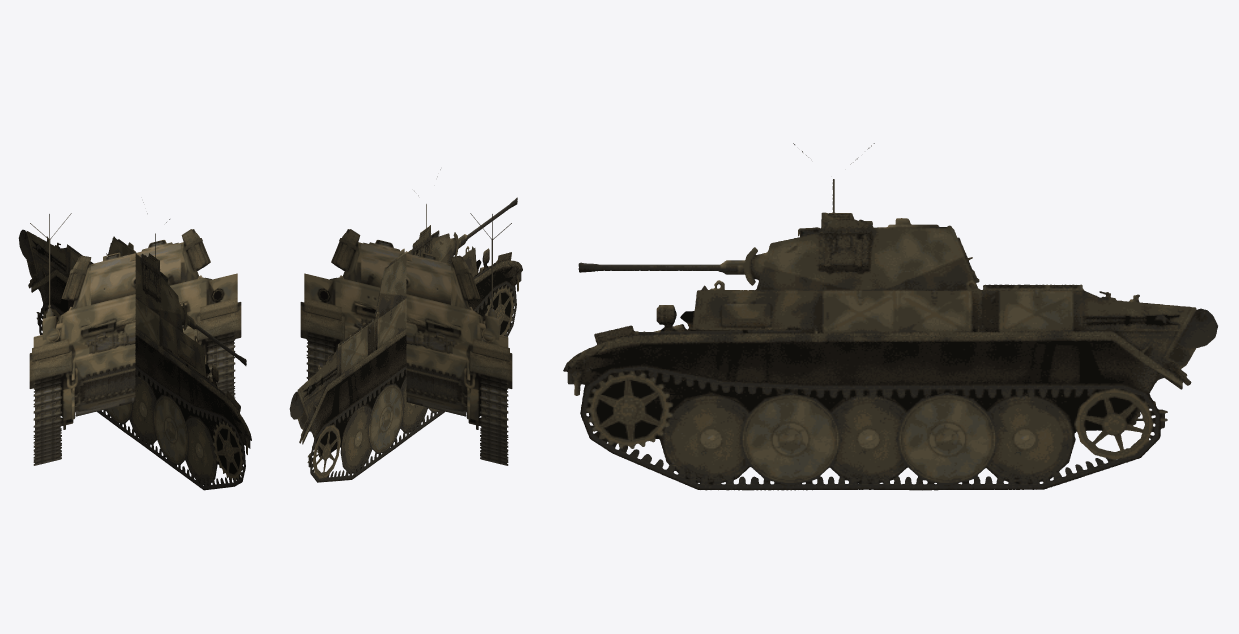
Rendered from panzer_ii_luchs_42manako_m_bb.glb.
3 renders of one model, left to right at view 1: azimuth 30°, elevation 25°; view 2: azimuth 150°, elevation 25°; view 3: azimuth 270°, elevation 25°, orthographic. The views are drawn at different scales.
Parts seen in each view (by area): view 1: panzer_ii_luchs_42manako_m_bb; view 2: panzer_ii_luchs_42manako_m_bb; view 3: panzer_ii_luchs_42manako_m_bb.
Boxes of the visible parts, x1=… form: panzer_ii_luchs_42manako_m_bb: x1=18, y1=202, x2=251, y2=490; panzer_ii_luchs_42manako_m_bb: x1=289, y1=169, x2=522, y2=482; panzer_ii_luchs_42manako_m_bb: x1=563, y1=143, x2=1217, y2=490.
Size of the model in its own units: 2.83 by 4.81 by 4.81.
Materials: 1 (1 with a texture image).
